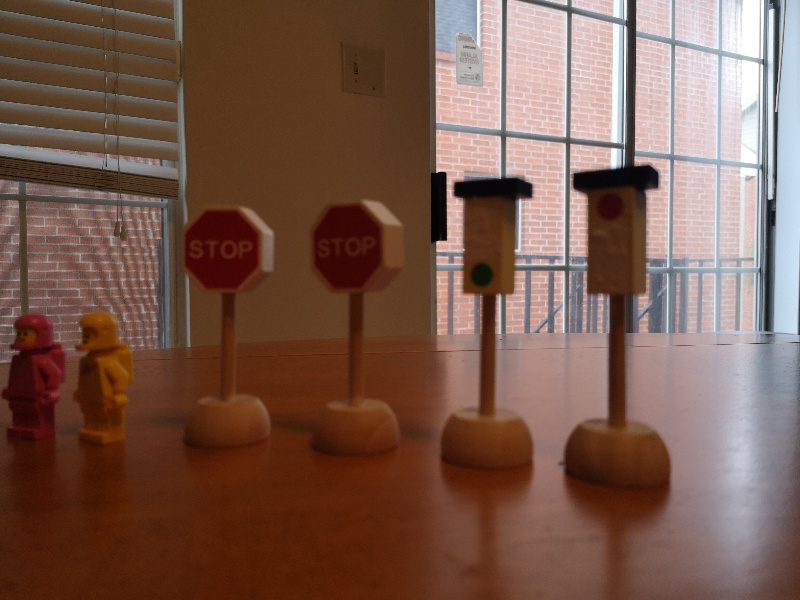Green Traffic Light: (451, 180, 535, 295)
Person: (70, 313, 136, 446), (5, 315, 67, 442)
Red Traffic Light: (567, 164, 660, 294)
Stop Sign: (307, 199, 406, 295), (178, 204, 276, 296)
